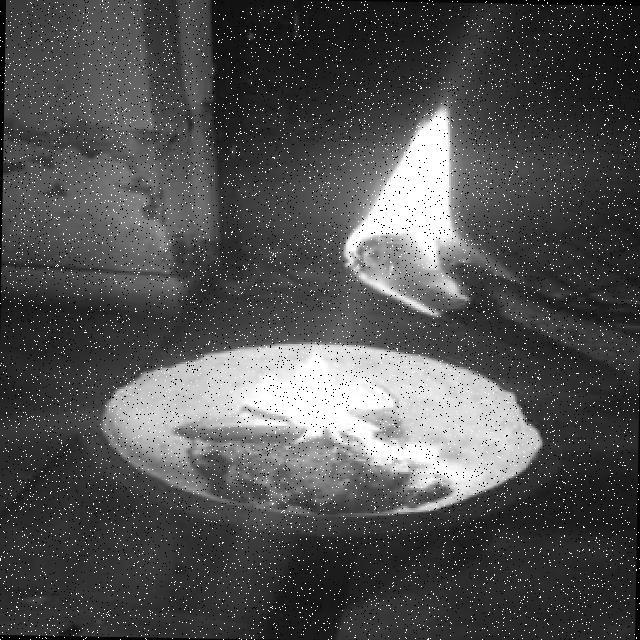Fire: (318, 86, 550, 314), (232, 343, 452, 469)
